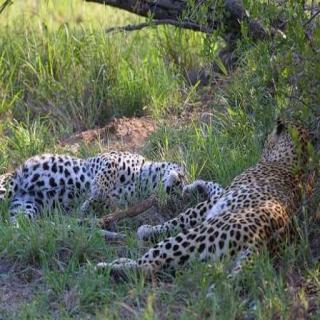Leopard: (113, 107, 319, 286), (0, 134, 185, 229)
